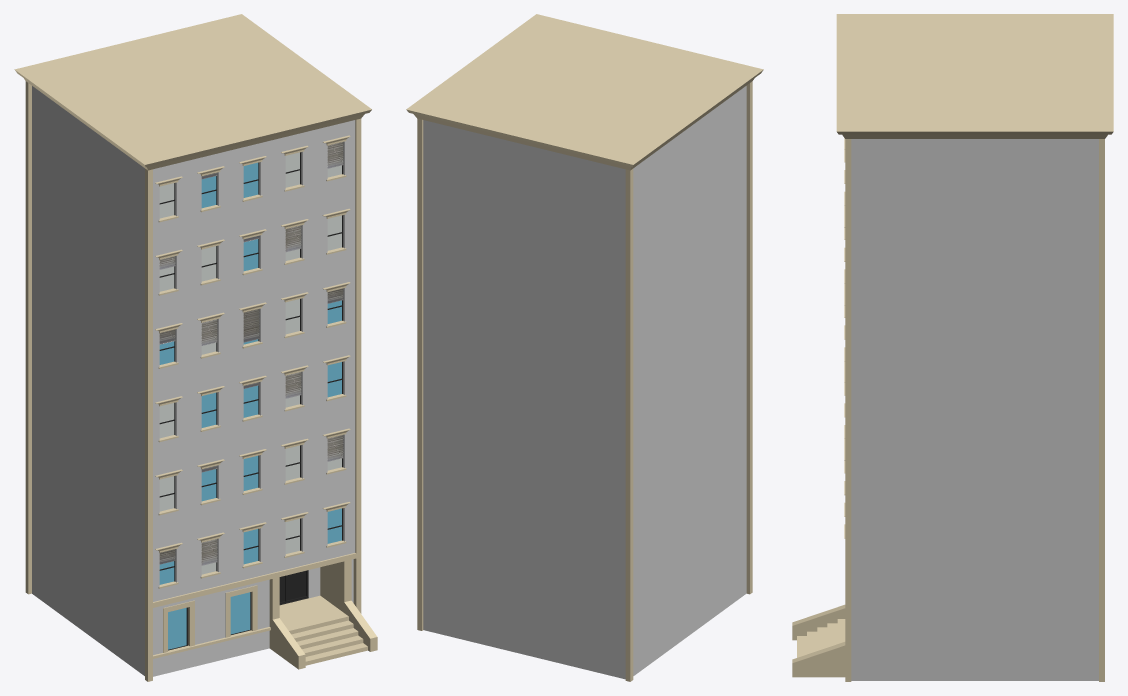
The model's file is Bloc_02F.fbx.
3 views of the same model, side by side, from view 1: azimuth 30°, elevation 25°; view 2: azimuth 150°, elevation 25°; view 3: azimuth 270°, elevation 25° (orthographic). The views are drawn at different scales.
Parts seen in each view (by area): view 1: Bloc_02F; view 2: Bloc_02F; view 3: Bloc_02F.
Boxes of the visible parts, x1,y1,x2,y2 form: Bloc_02F: (14,14,377,681); Bloc_02F: (406,14,763,681); Bloc_02F: (792,14,1113,681).
Bounding box in the file's own units: 1124 × 2136 × 974.
